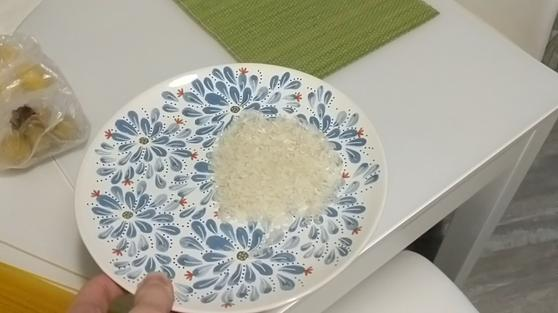rice: (199, 90, 354, 235)
